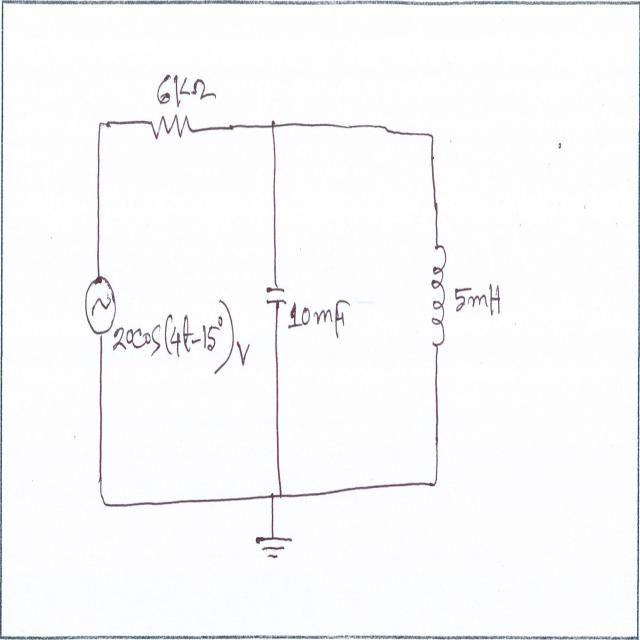ac_current: (81, 272, 118, 334)
capacitor: (265, 281, 291, 312)
ground: (254, 527, 296, 570)
inductor: (428, 237, 447, 352)
resistor: (150, 105, 196, 152)
